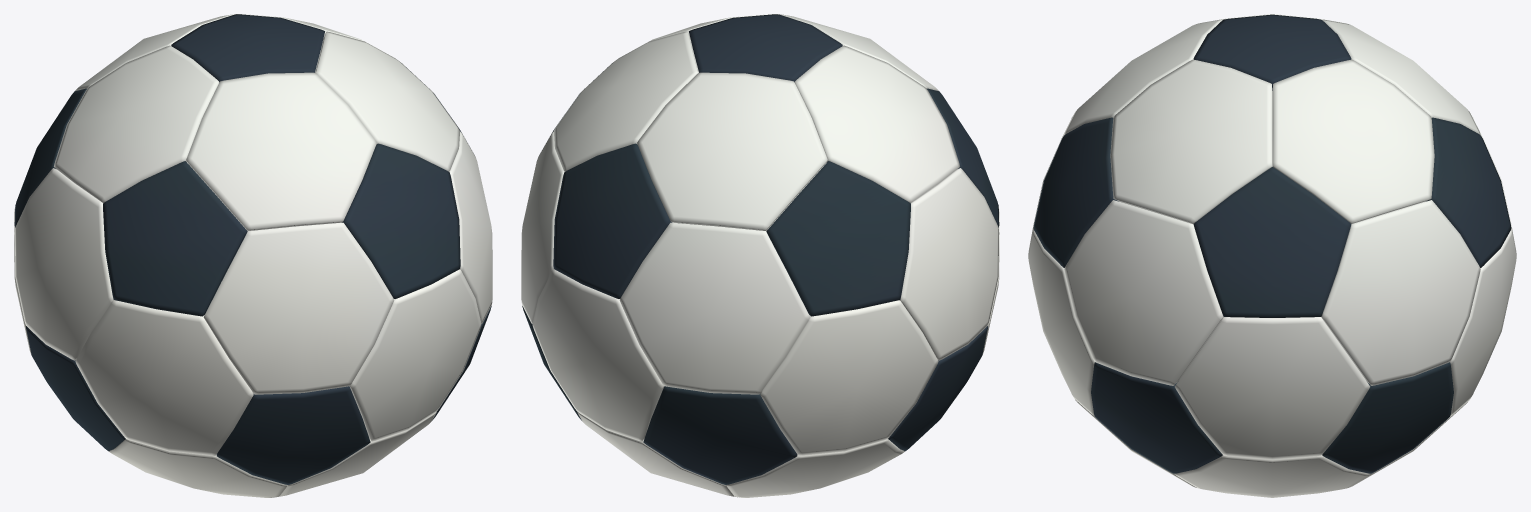
The model's file is toy_3.fbx.
3 views of the same model, side by side, from view 1: azimuth 30°, elevation 25°; view 2: azimuth 150°, elevation 25°; view 3: azimuth 270°, elevation 25° (orthographic).
Parts seen in each view (by area): view 1: toy_3; view 2: toy_3; view 3: toy_3.
Boxes of the visible parts, <box> form: toy_3: <box>14,14,492,497</box>; toy_3: <box>521,14,999,497</box>; toy_3: <box>1028,14,1516,497</box>.
Bounding box in the file's own units: 67.76 × 68.65 × 68.64.
